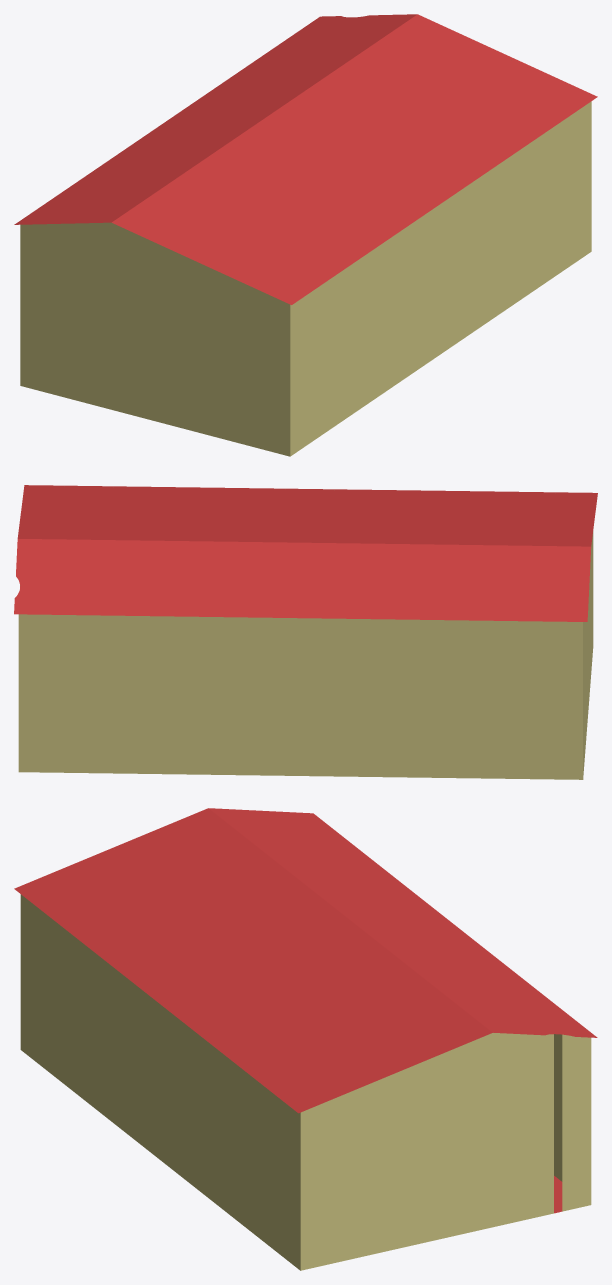
3 views of the same model, one above another, from view 1: azimuth 30°, elevation 25°; view 2: azimuth 150°, elevation 25°; view 3: azimuth 270°, elevation 25° (orthographic). The views are drawn at different scales.
Size of the model in its own units: 35.92 by 30.32 by 11.27.
